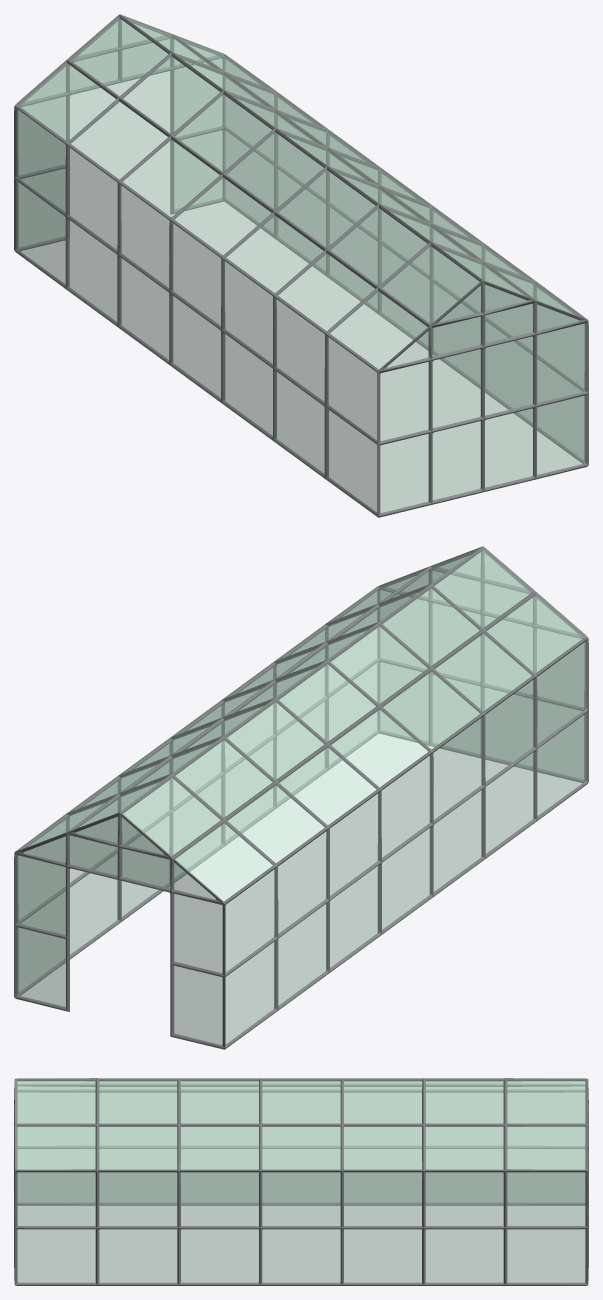
Rendered from glasshouse.fbx.
The picture shows the model from 3 angles, top to bottom: view 1: azimuth 30°, elevation 25°; view 2: azimuth 150°, elevation 25°; view 3: azimuth 270°, elevation 25°; orthographic projection. The views are drawn at different scales.
Visible parts, largest first — view 1: Cube; view 2: Cube; view 3: Cube.
Part boxes in pixels (left/top/right/bottom): Cube: left=14, top=14, right=588, bottom=517; Cube: left=14, top=546, right=588, bottom=1049; Cube: left=14, top=1078, right=588, bottom=1285.
Bounding box in the file's own units: 204 × 195 × 607.
